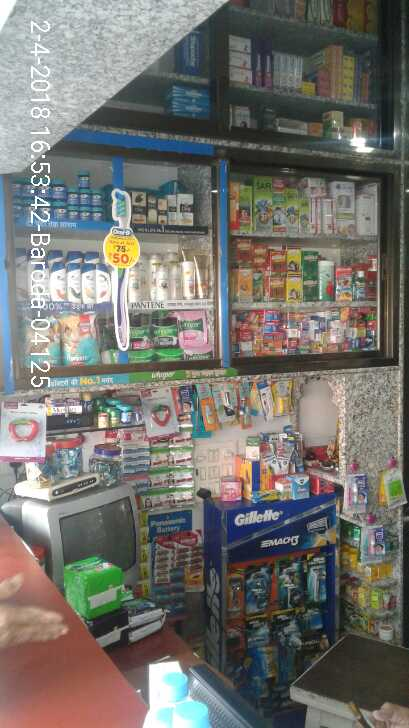vicks: (20, 179, 40, 200), (53, 179, 67, 200), (91, 205, 104, 224), (53, 202, 65, 222), (68, 204, 81, 221), (78, 170, 90, 188), (68, 189, 80, 203), (81, 205, 91, 221), (40, 179, 48, 197), (92, 190, 101, 204)
